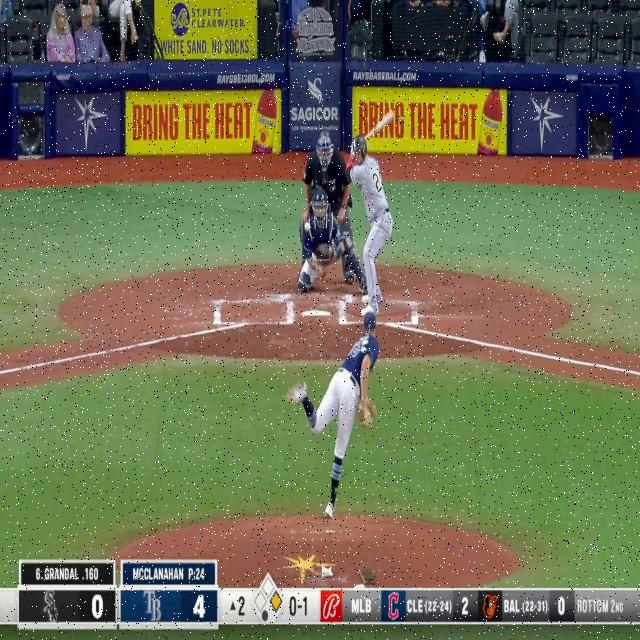baseball: (304, 222, 310, 232)
